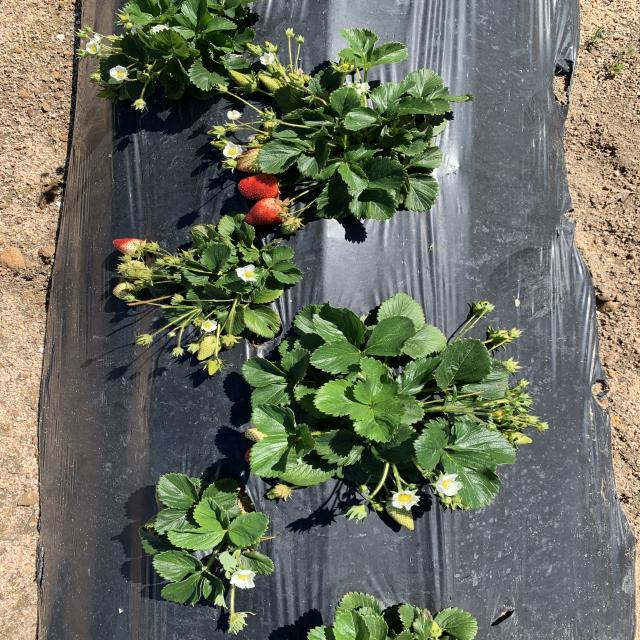unripe: (234, 173, 282, 199), (243, 198, 290, 224)
